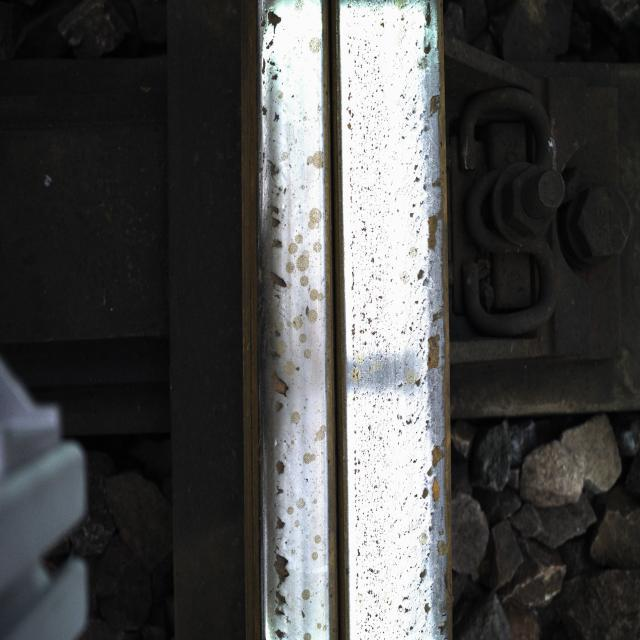scar: (355, 15, 441, 573), (255, 32, 320, 586)
